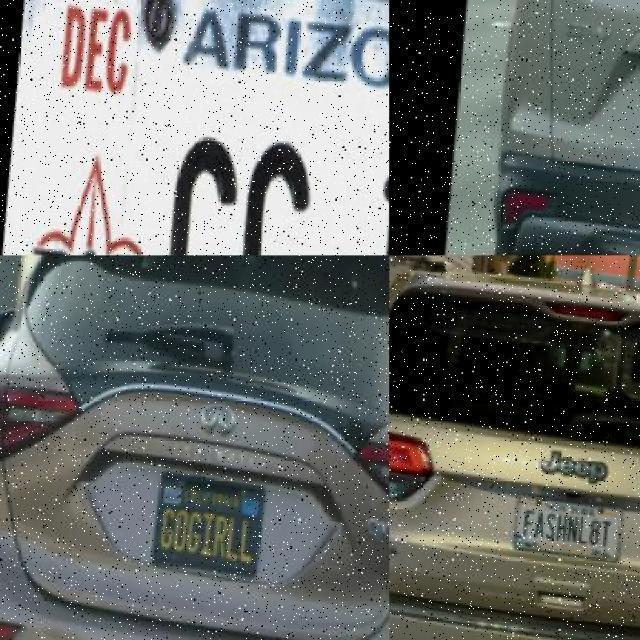LicensePlate: (111, 88, 390, 256), (140, 472, 269, 589), (502, 493, 617, 565)
